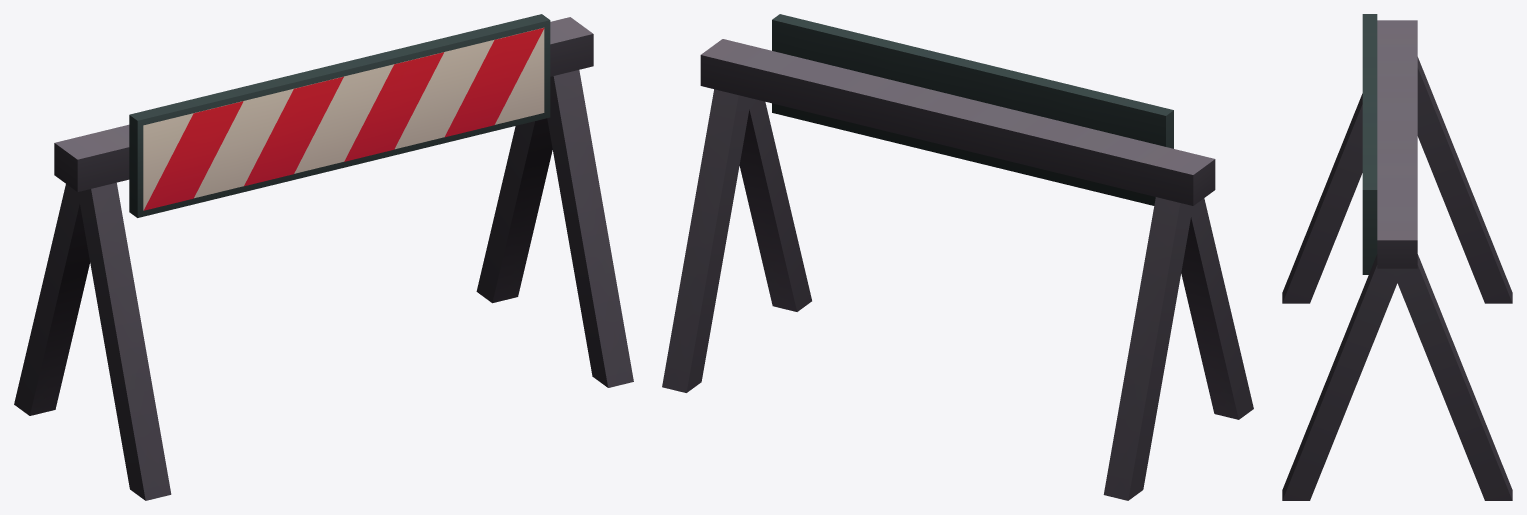
Rendered from Streetsign_3B.fbx.
The picture shows the model from 3 angles, left to right: view 1: azimuth 30°, elevation 25°; view 2: azimuth 150°, elevation 25°; view 3: azimuth 270°, elevation 25°; orthographic projection. The views are drawn at different scales.
Visible parts, largest first — view 1: Streetsign_3B; view 2: Streetsign_3B; view 3: Streetsign_3B.
Boxes of the visible parts, x1,y1,x2,y2 form: Streetsign_3B: [14, 14, 633, 500]; Streetsign_3B: [662, 14, 1253, 500]; Streetsign_3B: [1282, 14, 1512, 500].
Bounding box in the file's own units: 1.78 × 1.11 × 0.7891.
